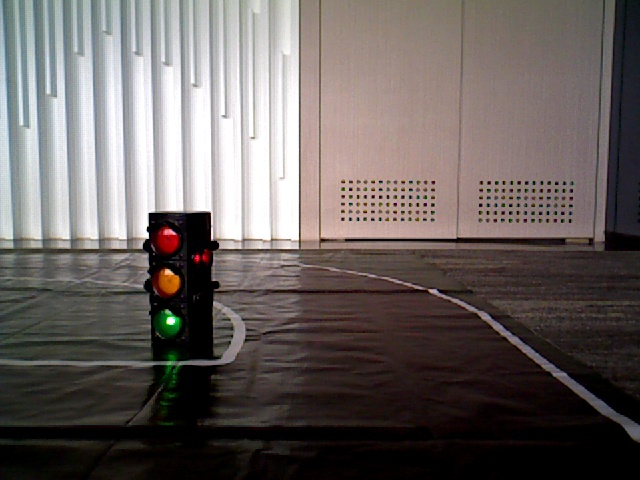green: (148, 215, 200, 348)
